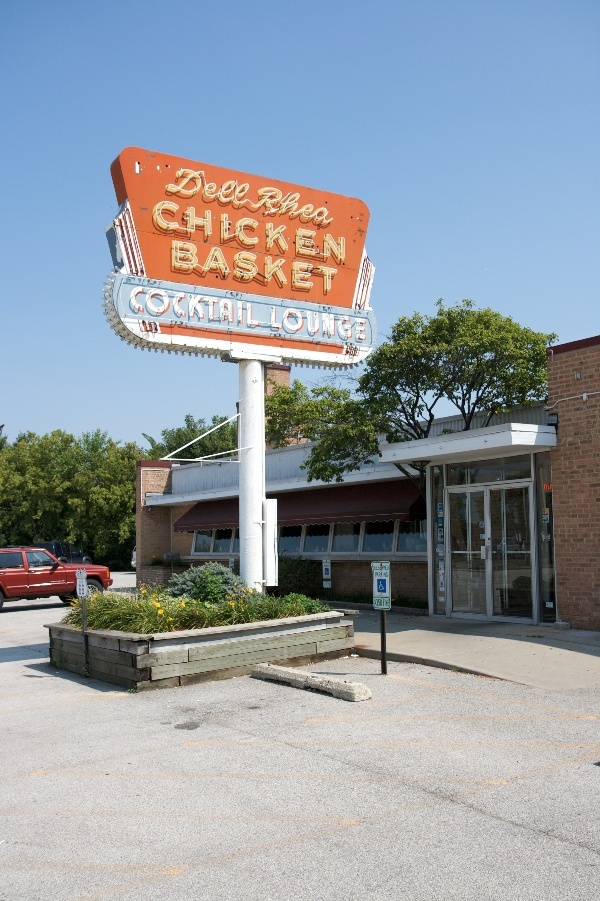text: (161, 198, 176, 264), (177, 198, 192, 264), (193, 198, 208, 264), (209, 198, 224, 264), (225, 198, 240, 264), (241, 198, 256, 264), (257, 198, 272, 264), (273, 198, 288, 264), (289, 198, 304, 264), (305, 198, 320, 264), (321, 198, 336, 264), (177, 238, 192, 292), (193, 238, 208, 292), (209, 238, 224, 292), (225, 238, 240, 292), (241, 238, 256, 292), (257, 238, 272, 292), (273, 238, 288, 292), (289, 238, 304, 292), (305, 238, 320, 292), (321, 238, 336, 292), (273, 181, 288, 231), (289, 181, 304, 231), (305, 181, 320, 231), (321, 181, 336, 231), (193, 165, 208, 210), (209, 165, 224, 210), (225, 165, 240, 210), (241, 165, 256, 210), (337, 198, 347, 264), (145, 284, 160, 327), (161, 284, 176, 327), (177, 284, 192, 327), (193, 284, 208, 327), (209, 284, 224, 327), (225, 284, 240, 327), (241, 284, 256, 327), (273, 304, 288, 340), (289, 304, 304, 340), (305, 304, 320, 340), (321, 304, 336, 340), (337, 304, 352, 340), (132, 284, 144, 327), (353, 304, 367, 340), (262, 181, 272, 231), (183, 165, 192, 210), (154, 198, 160, 264), (171, 238, 176, 292), (337, 181, 341, 231), (257, 284, 261, 327), (337, 238, 339, 292), (270, 304, 272, 340), (373, 565, 384, 571), (545, 483, 553, 491), (324, 582, 336, 587), (376, 599, 384, 606), (375, 599, 384, 605), (323, 564, 336, 568), (81, 584, 85, 595), (376, 572, 384, 577), (385, 599, 390, 607), (323, 561, 336, 564), (385, 565, 389, 571), (78, 584, 80, 595), (385, 572, 388, 577), (81, 579, 84, 584), (383, 599, 384, 607), (543, 483, 544, 491), (79, 579, 80, 584)
